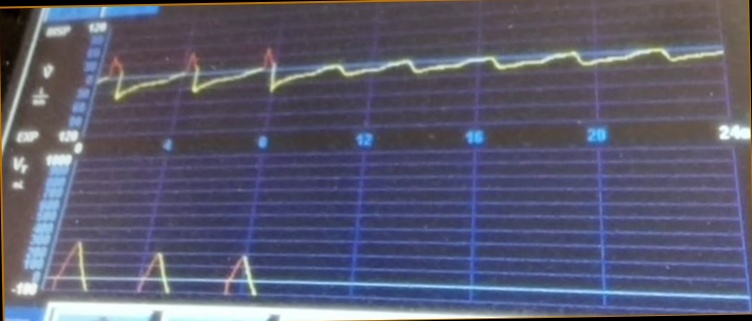Ineffective_effort Flow: (101, 29, 716, 116)
Ineffective_effort Volume: (49, 226, 577, 304)
